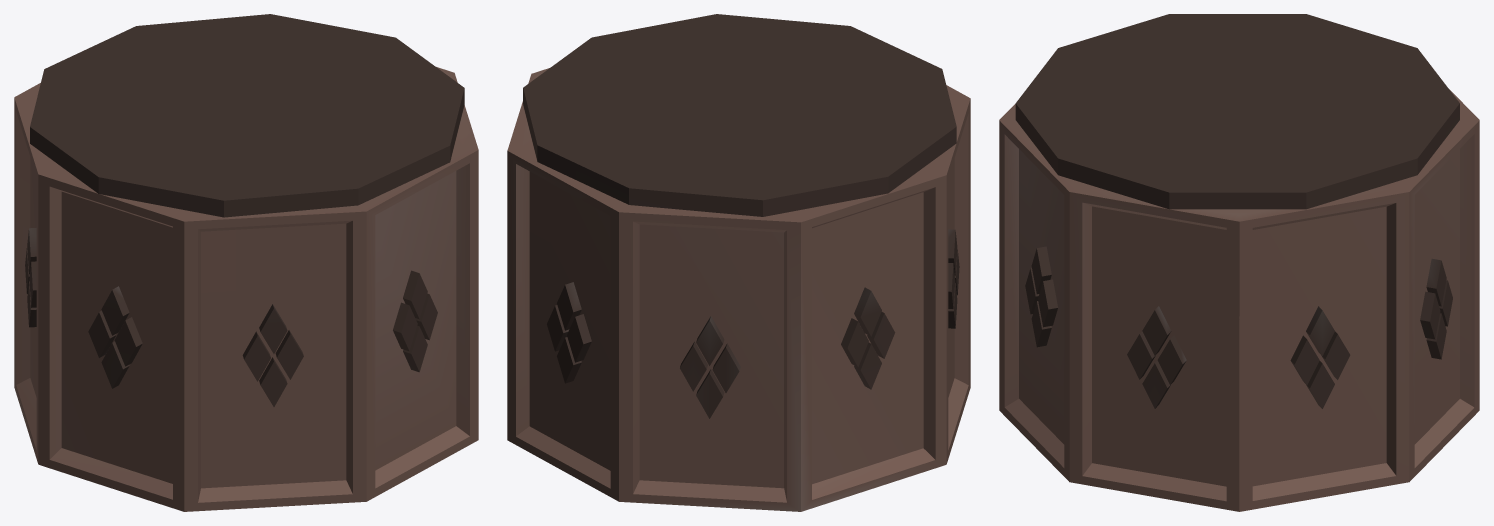
File: well2.fbx
3 views of the same model, side by side, from view 1: azimuth 30°, elevation 25°; view 2: azimuth 150°, elevation 25°; view 3: azimuth 270°, elevation 25° (orthographic).
Parts seen in each view (by area): view 1: Cylinder.004; view 2: Cylinder.004; view 3: Cylinder.004.
Part boxes in pixels (bbox=[...]): Cylinder.004: bbox=[14, 14, 478, 511]; Cylinder.004: bbox=[507, 14, 970, 511]; Cylinder.004: bbox=[999, 14, 1479, 511].
Size of the model in its own units: 150 by 106 by 150.
